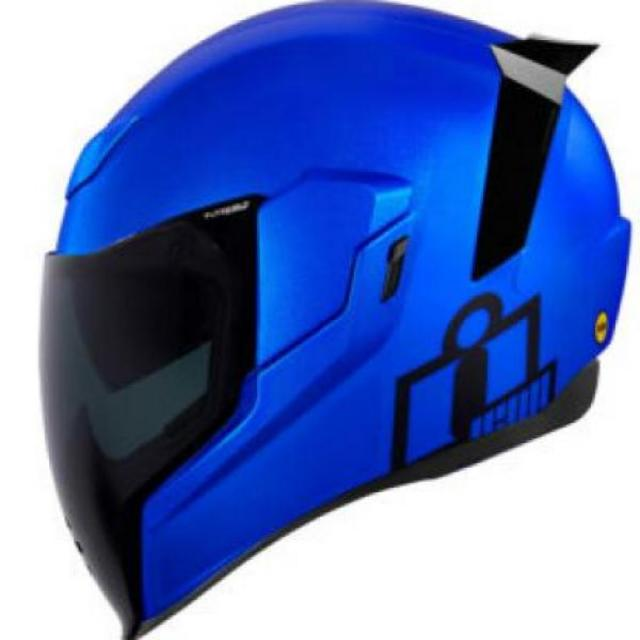Helmet: (43, 19, 611, 612)
